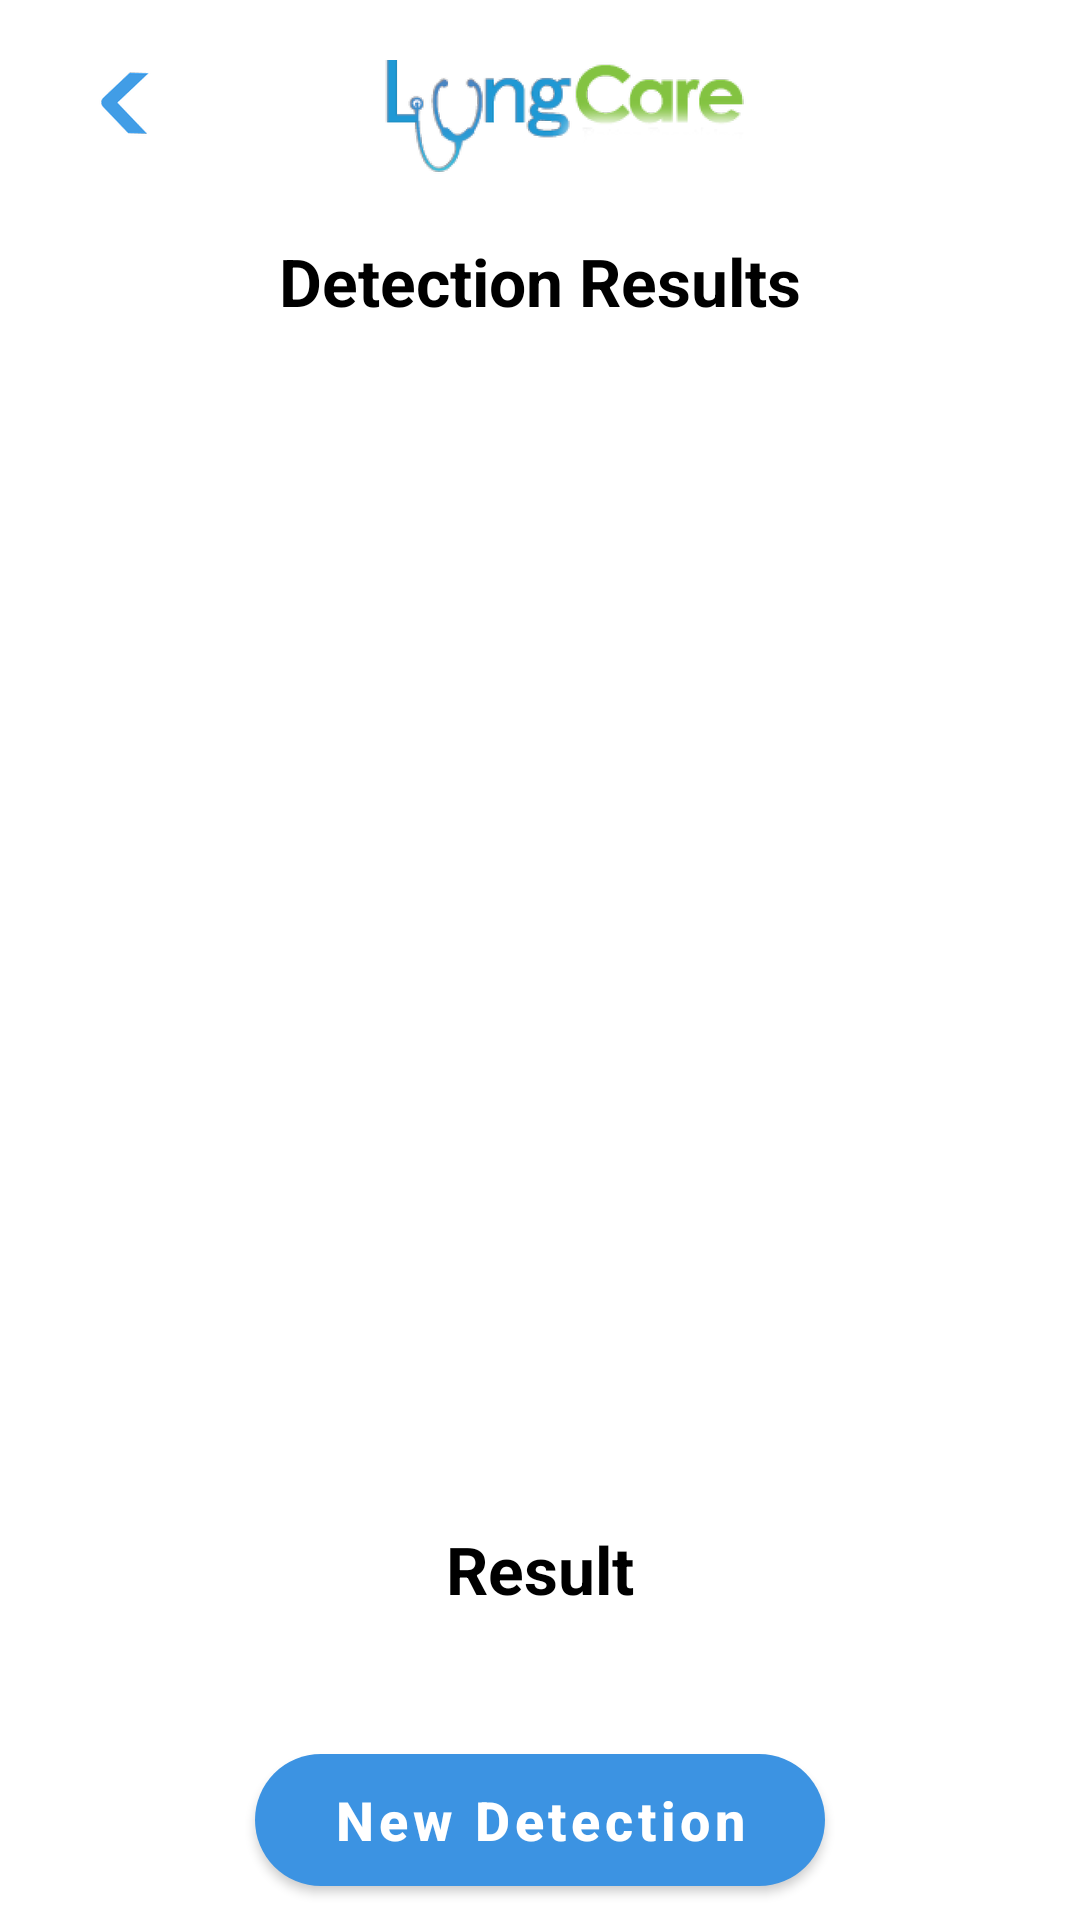

Icon bounding boxes for this 1080×1920 phone screenshot, format region(x1, y1, x2, y2):
back: region(101, 72, 149, 134)
